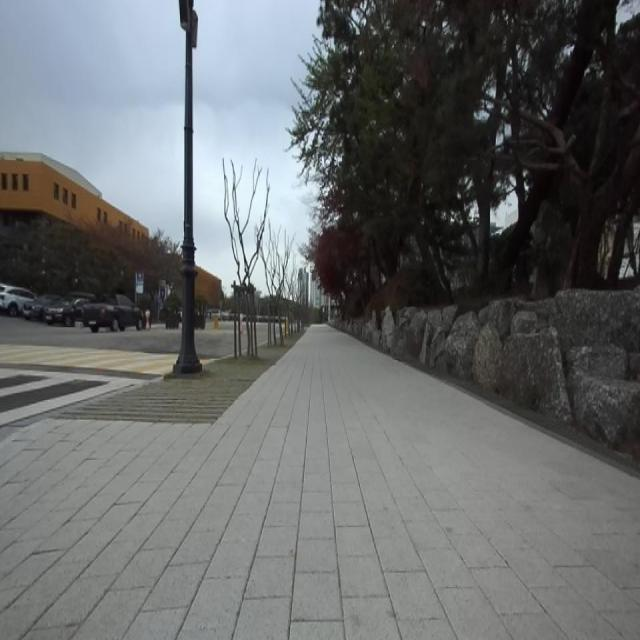sidewalk: (0, 325, 640, 639)
